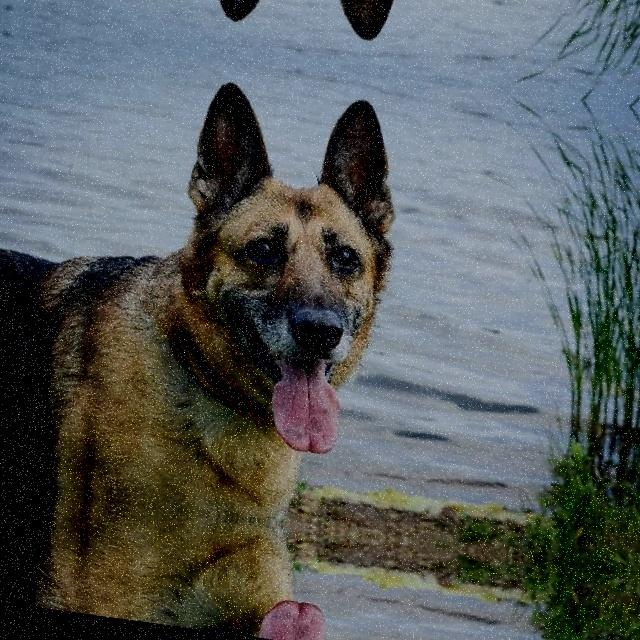dog: (0, 22, 422, 540), (0, 479, 393, 640), (0, 0, 429, 72)
